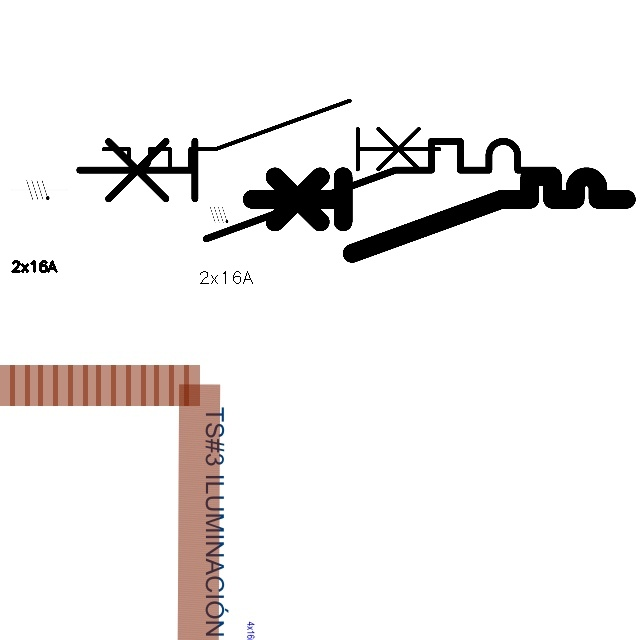interruptor_termomagnetico: (67, 129, 566, 251), (242, 167, 635, 263), (95, 92, 447, 178)
